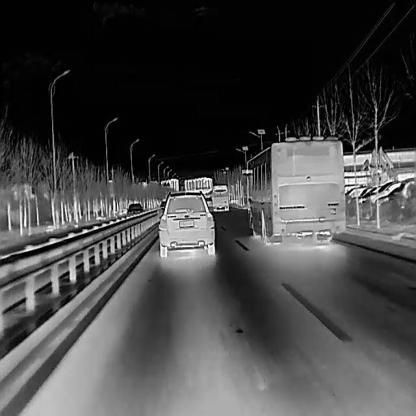car: (241, 133, 345, 245), (158, 189, 214, 258), (211, 183, 228, 210), (126, 203, 145, 224)
